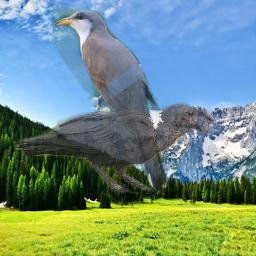Crow: (13, 101, 217, 195)
Cuckoo: (53, 7, 171, 194)
